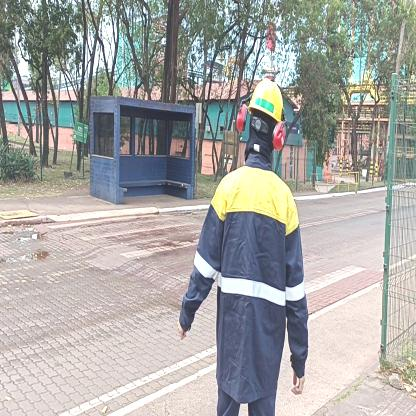C_eletrica: (187, 171, 311, 385)
Capacete: (248, 76, 286, 118)
